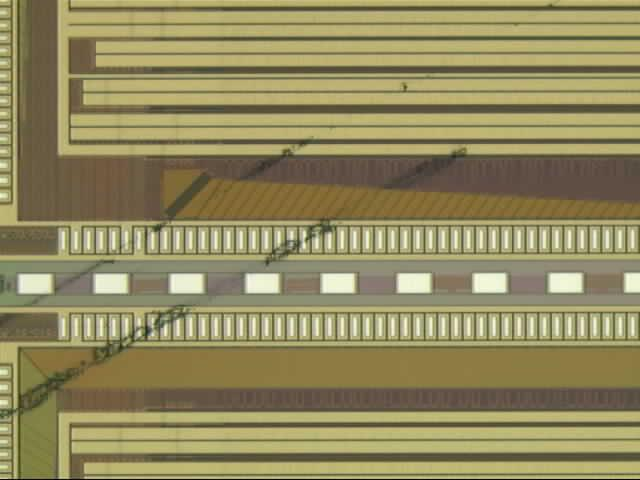SCRATCH: (1, 1, 567, 426)
